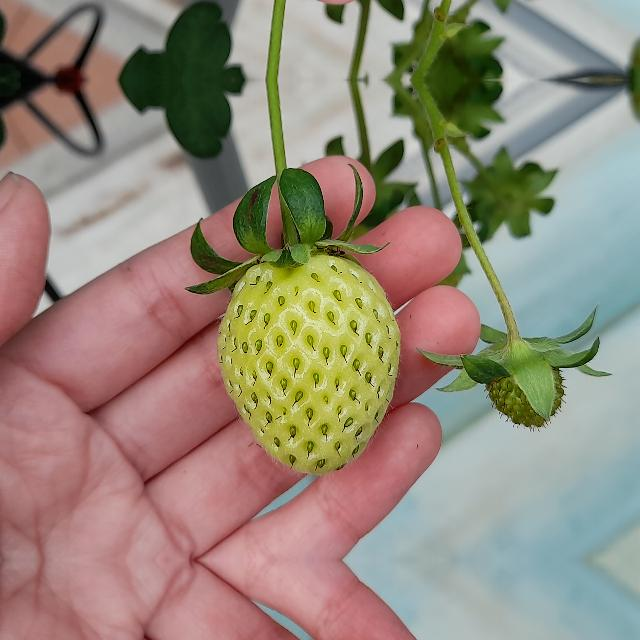Health_25: (216, 254, 400, 473), (470, 333, 570, 432)
